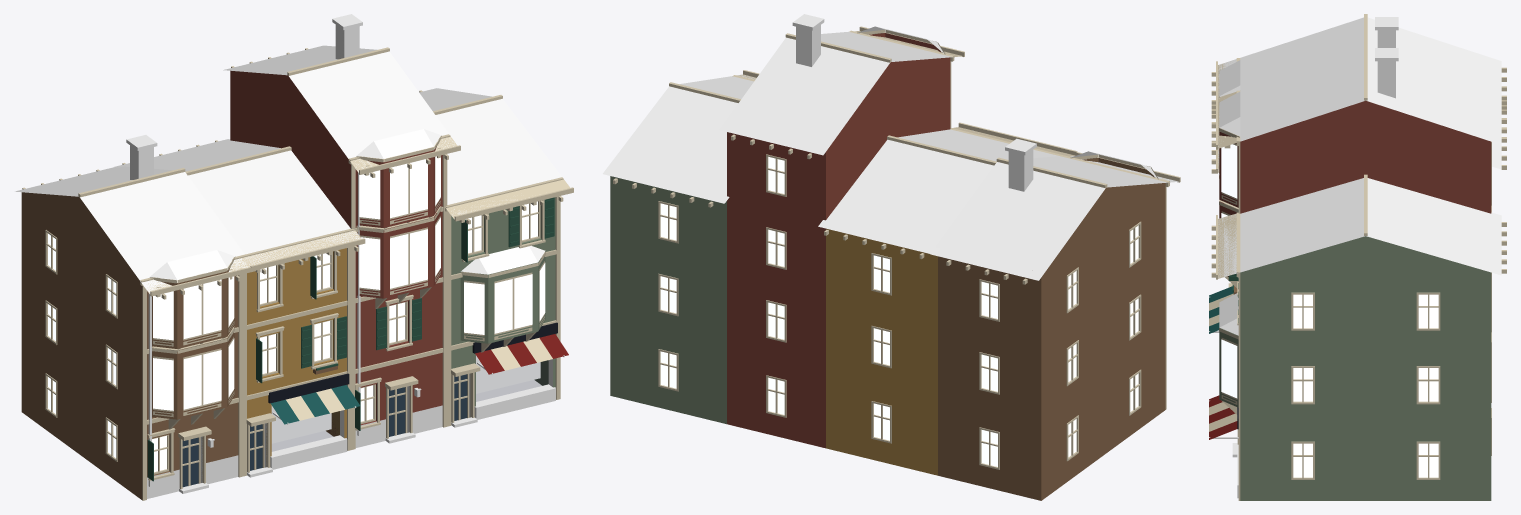
Rendered from bld_ahsap_row_b.glb.
The picture shows the model from 3 angles, left to right: view 1: azimuth 30°, elevation 25°; view 2: azimuth 150°, elevation 25°; view 3: azimuth 270°, elevation 25°; orthographic projection. The views are drawn at different scales.
Parts seen in each view (by area): view 1: LOD0; view 2: LOD0; view 3: LOD0.
Part boxes in pixels (box(x1,y1,x2,y2)): LOD0: box(15, 14, 573, 500); LOD0: box(603, 14, 1180, 500); LOD0: box(1209, 14, 1506, 500).
Size of what is drawn, in the model's own units: 19.44 by 15.87 by 11.4.
